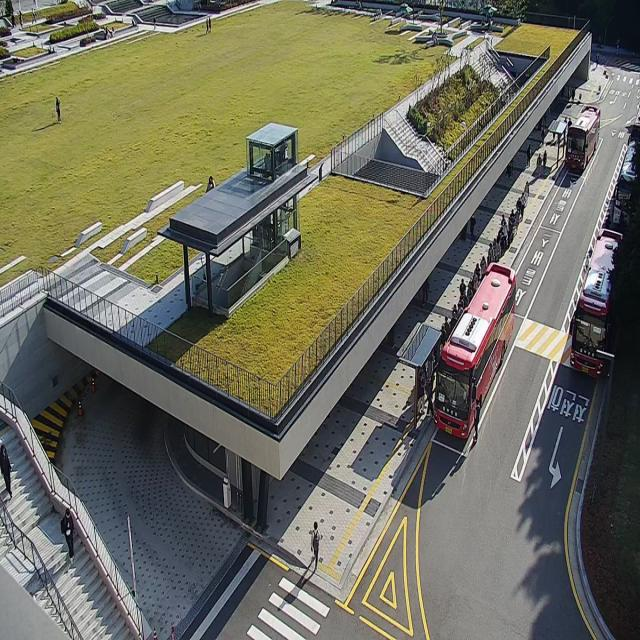queue: (415, 182, 529, 430)
